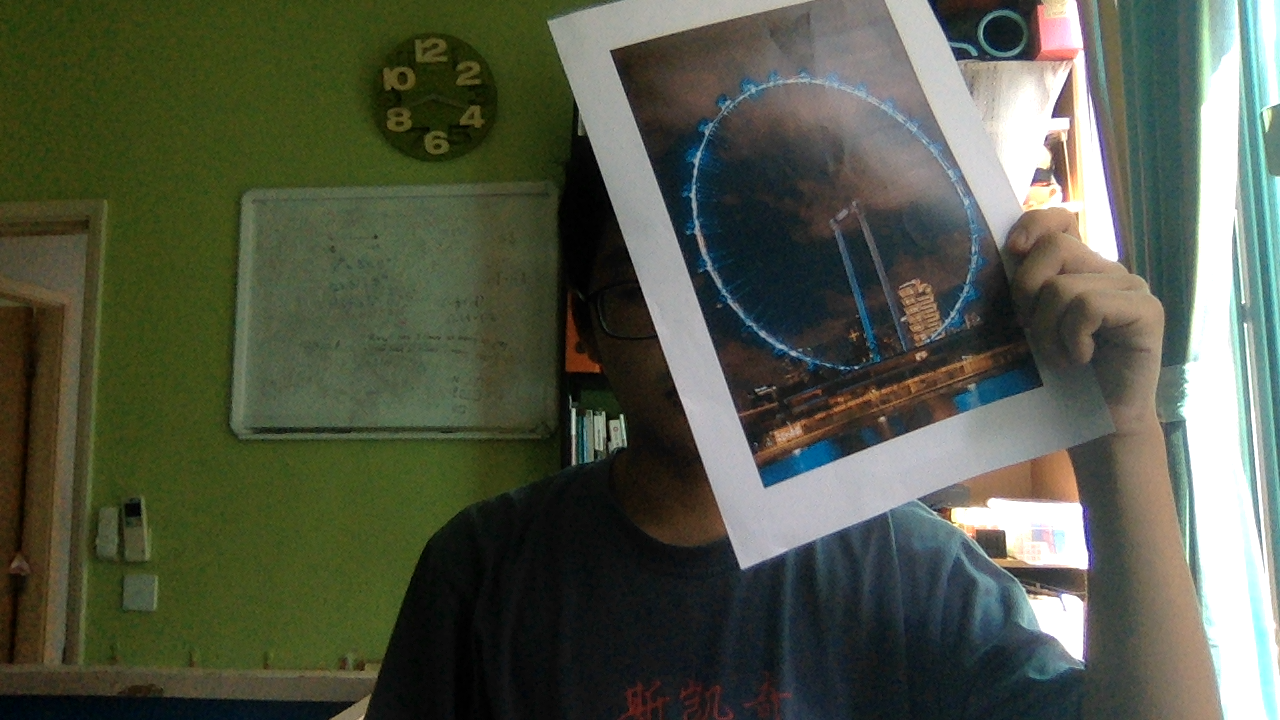Flyer: (637, 21, 1010, 475)
